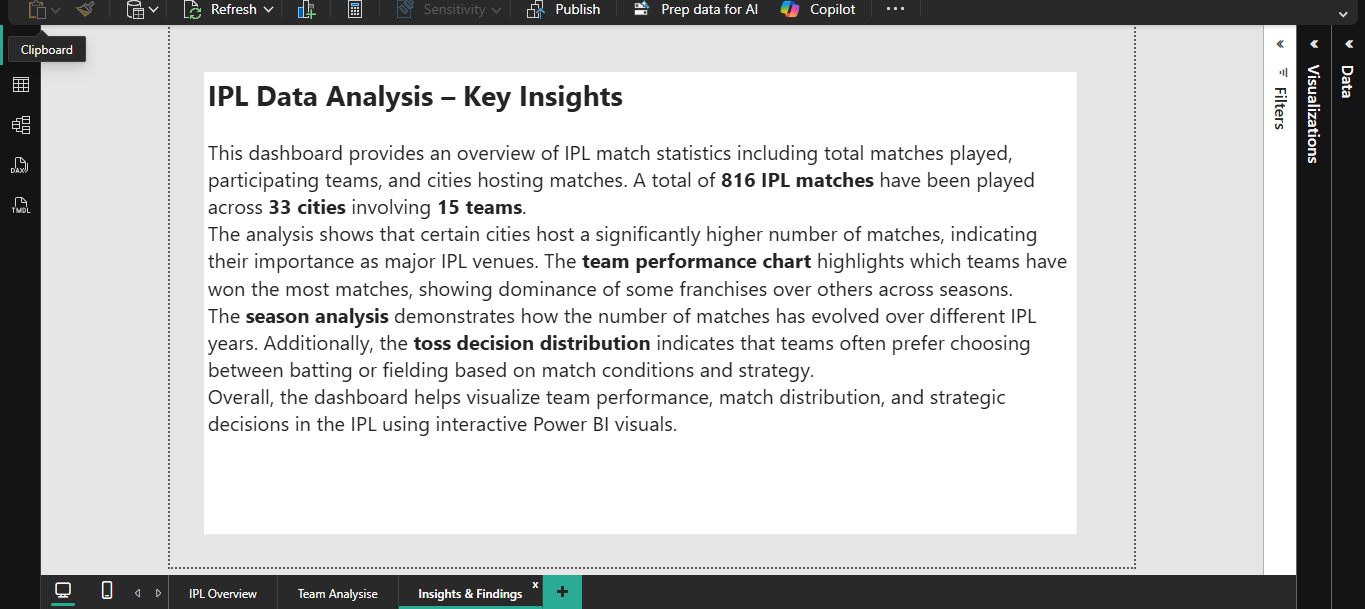

Layout of this report page (visuals, bound fields, positions):
{"tool":"powerbi","page":{"name":"Insights & Findings","canvas":[1280,720],"ordinal":2},"visuals":[{"type":"textbox","box":[44.8,62.7,1159.2,613.9],"z":1}]}

Visuals, with their boxes in screenshot pixels (x1, y1, x2, y2):
textbox: region(257, 21, 1294, 570)
